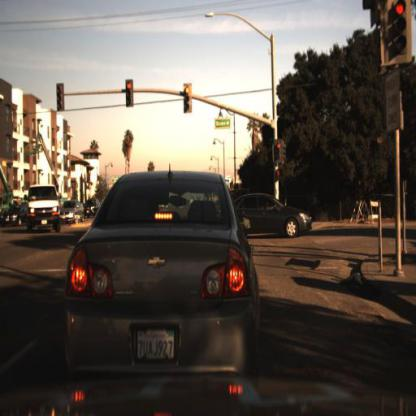car: (64, 170, 262, 392), (236, 194, 318, 239), (25, 182, 76, 234)
trafficLight: (184, 82, 194, 116), (56, 84, 65, 111)
trafficLight-Red: (383, 2, 414, 65), (274, 140, 285, 165), (126, 79, 135, 109)
